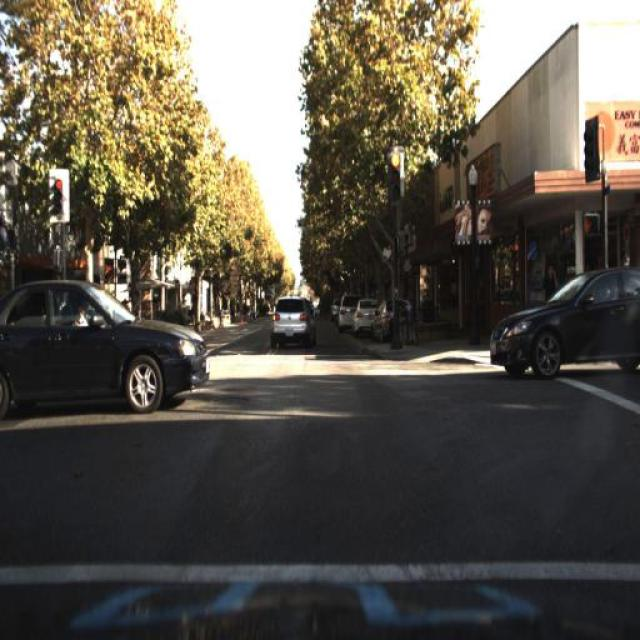car: (0, 272, 214, 418), (490, 254, 638, 390), (489, 267, 638, 375), (350, 296, 380, 340)
trafficLight: (543, 262, 559, 326)
trafficLight-RedLeft: (46, 169, 68, 222), (49, 170, 67, 220), (386, 148, 402, 203)
